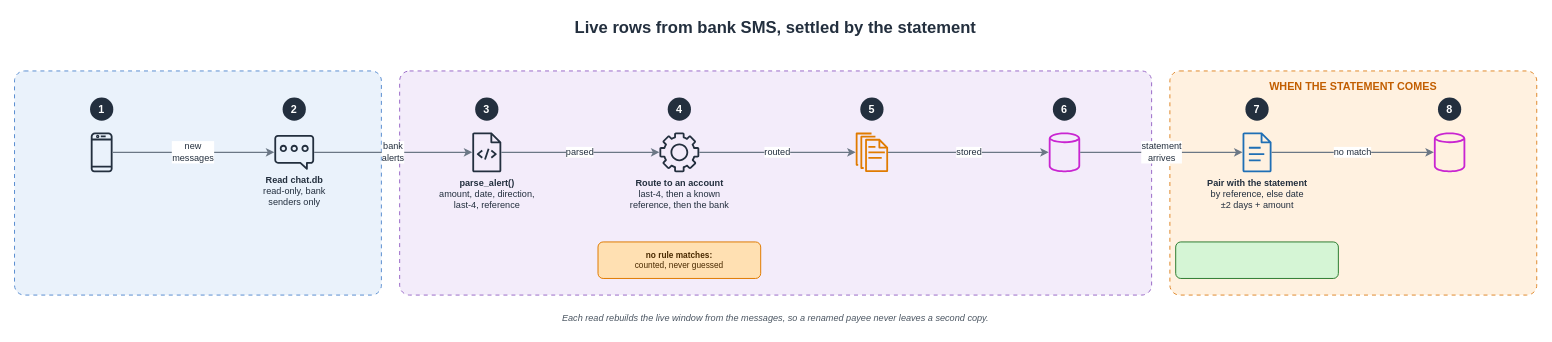
This 1552x342 diagram has some shape labels left out. The box of each missing label's shape, as (x1, y1, x2, y2) in pixels:
Bank SMS forwarded from your iPhone to your Mac: (89, 132, 114, 172)
Live rows tagged live, counted in totals: (1047, 132, 1081, 172)
ON YOUR MAC: (14, 70, 381, 295)
One row per payment an SMS and an email of the same swipe kept once: (855, 132, 888, 172)
paired: the statement line replaces the live row: (1175, 241, 1338, 279)
STATEMENTLENS: (399, 70, 1152, 295)
Unsettled listed, and taken out of every total: (1433, 132, 1466, 172)
